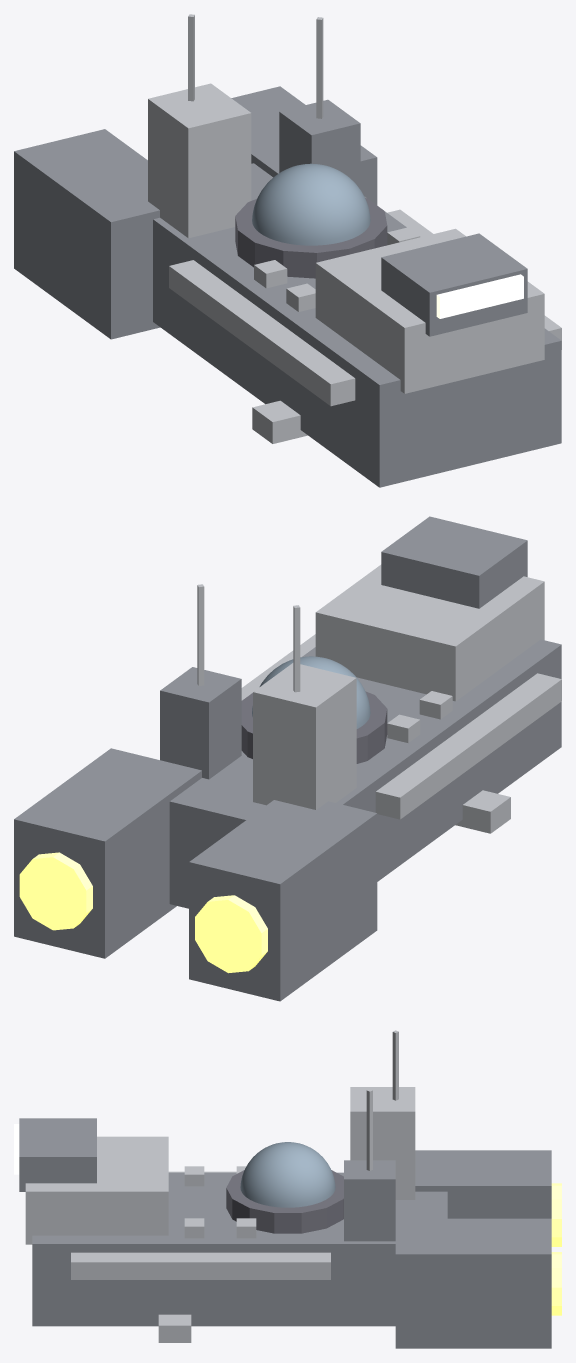
Rendered from tug.glb.
3 views of the same model, one above another, from view 1: azimuth 30°, elevation 25°; view 2: azimuth 150°, elevation 25°; view 3: azimuth 270°, elevation 25° (orthographic). The views are drawn at different scales.
Visible parts, largest first — view 1: tug, dome.011; view 2: tug, dome.011; view 3: tug, dome.011.
Part boxes in pixels (bbox=[...]): tug: bbox=[14, 14, 561, 487]; dome.011: bbox=[252, 163, 370, 245]; tug: bbox=[14, 516, 561, 1001]; dome.011: bbox=[252, 656, 370, 728]; tug: bbox=[14, 1030, 561, 1348]; dome.011: bbox=[240, 1142, 335, 1207].
Size of the model in its own units: 2.58 by 2.82 by 5.74.
